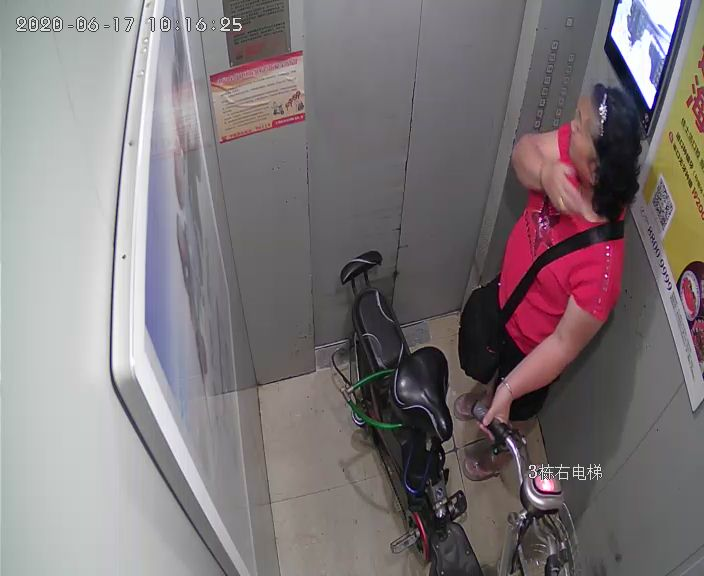Electric-bicycle: (341, 257, 581, 575)
